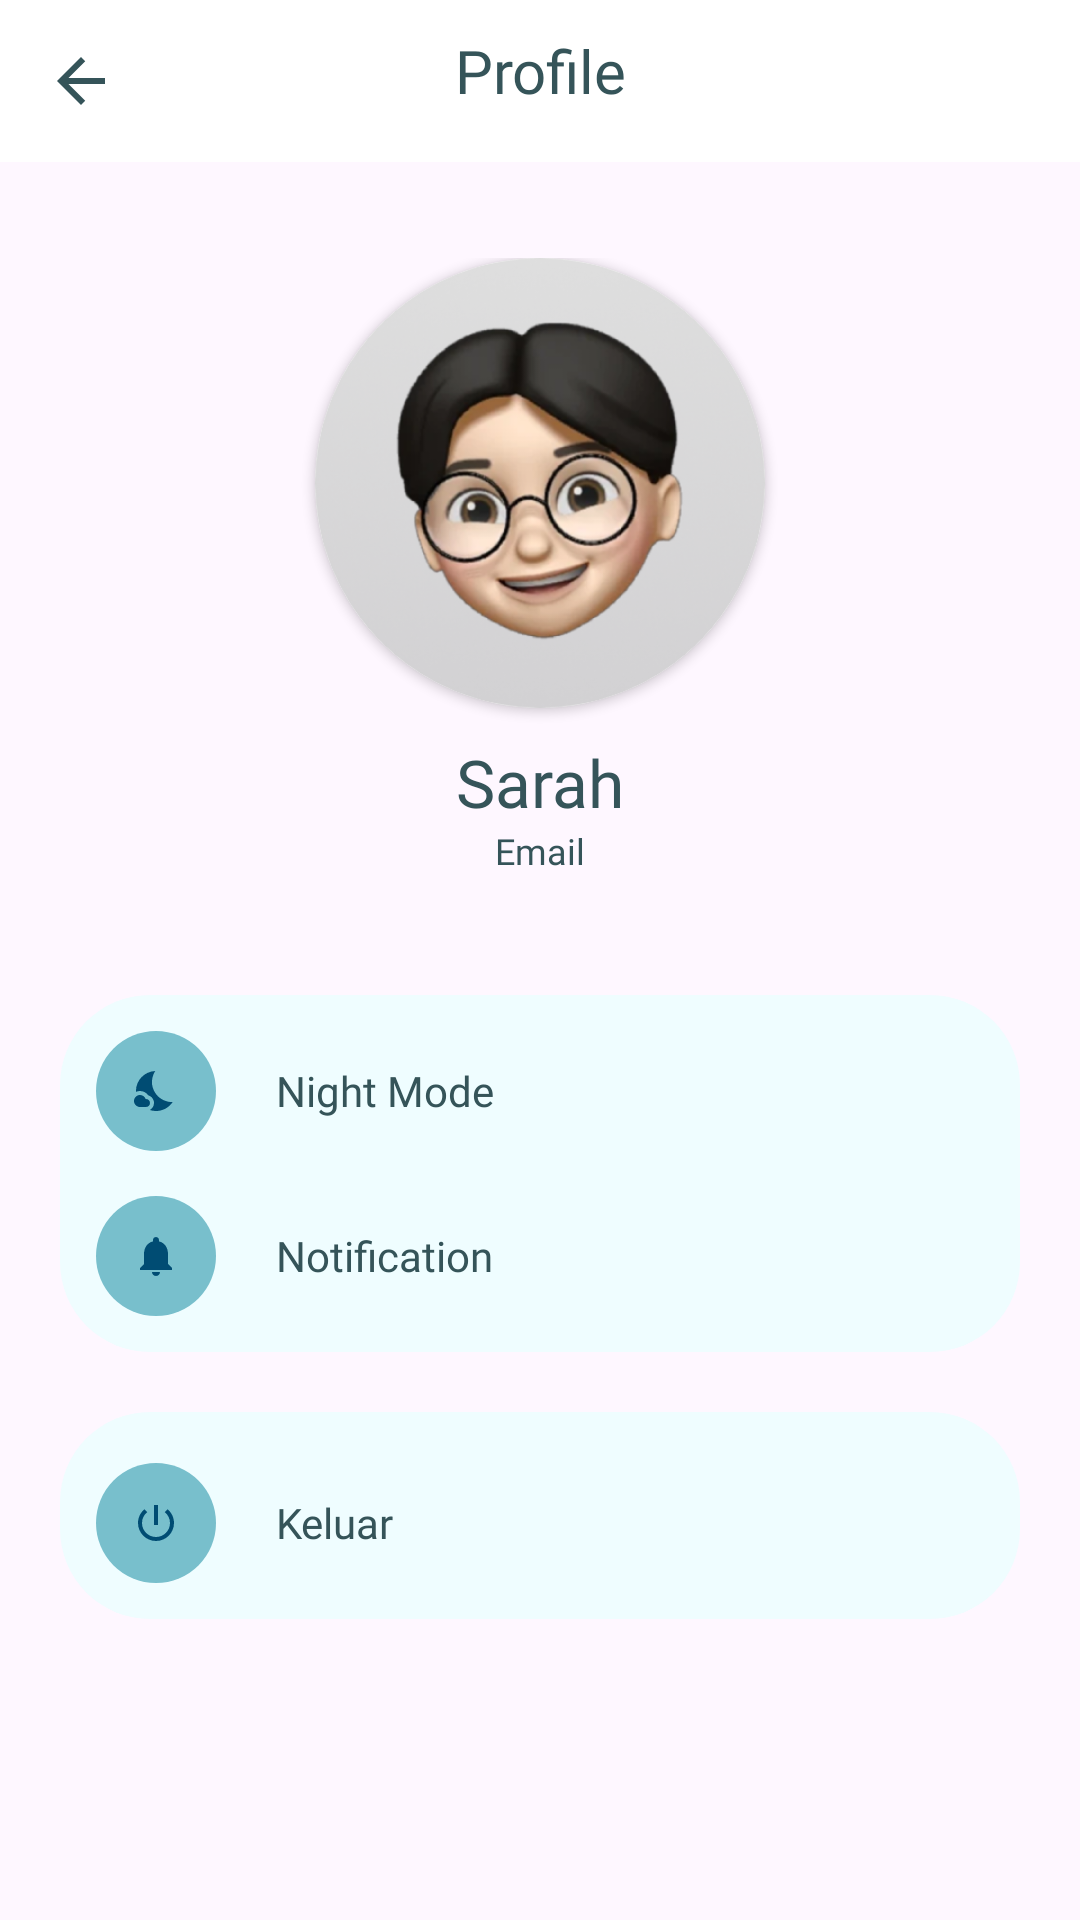

Named icons in this screenshot (1080x1920) and their centers, [x,y]:
icon notifikasi: [156,1256]
kembali: [81,81]
